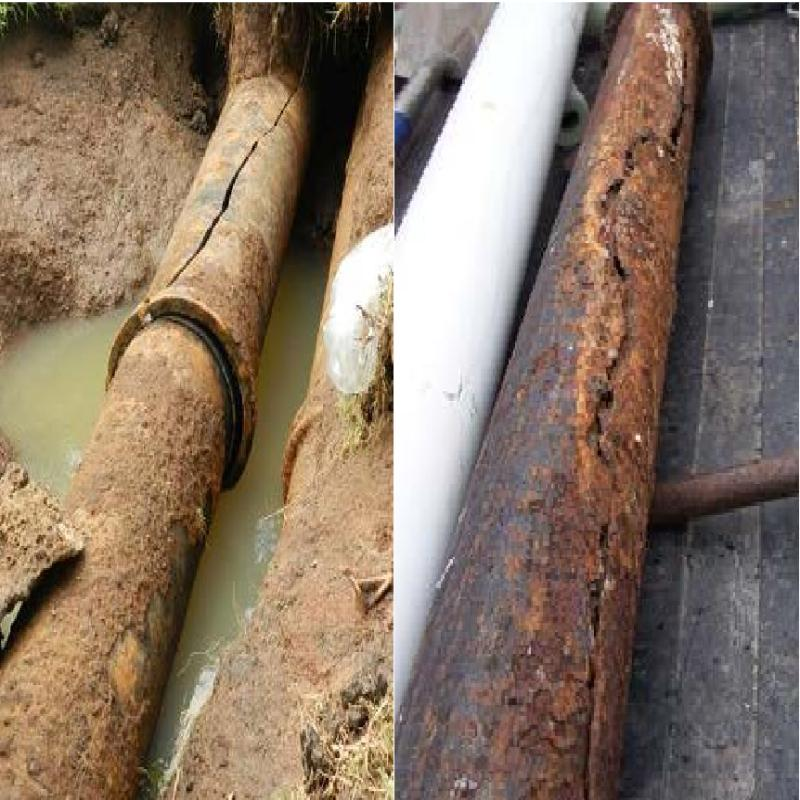Fracture: (578, 54, 669, 788), (159, 60, 307, 284)
corrosion: (6, 350, 232, 705)
